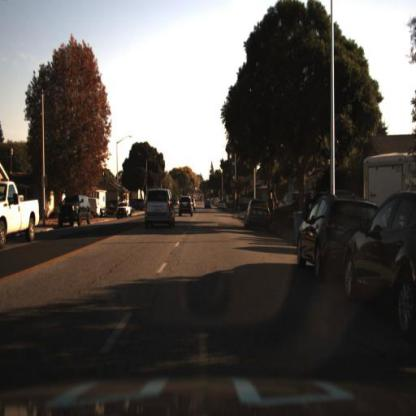car: (342, 192, 416, 340), (295, 191, 384, 281), (295, 179, 347, 297), (1, 180, 43, 249), (55, 186, 95, 238), (145, 186, 176, 234), (242, 195, 273, 238), (59, 195, 91, 231), (276, 185, 302, 221), (245, 198, 271, 228), (114, 199, 137, 225), (91, 190, 109, 221), (179, 193, 196, 220), (117, 203, 135, 220), (216, 197, 228, 214), (204, 199, 213, 215)
pedestrian: (268, 190, 275, 230)
